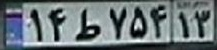character: (73, 4, 102, 44), (46, 5, 71, 43), (105, 3, 128, 42), (128, 3, 149, 43), (24, 6, 46, 43), (149, 3, 170, 40), (192, 8, 213, 39), (177, 9, 193, 40)
